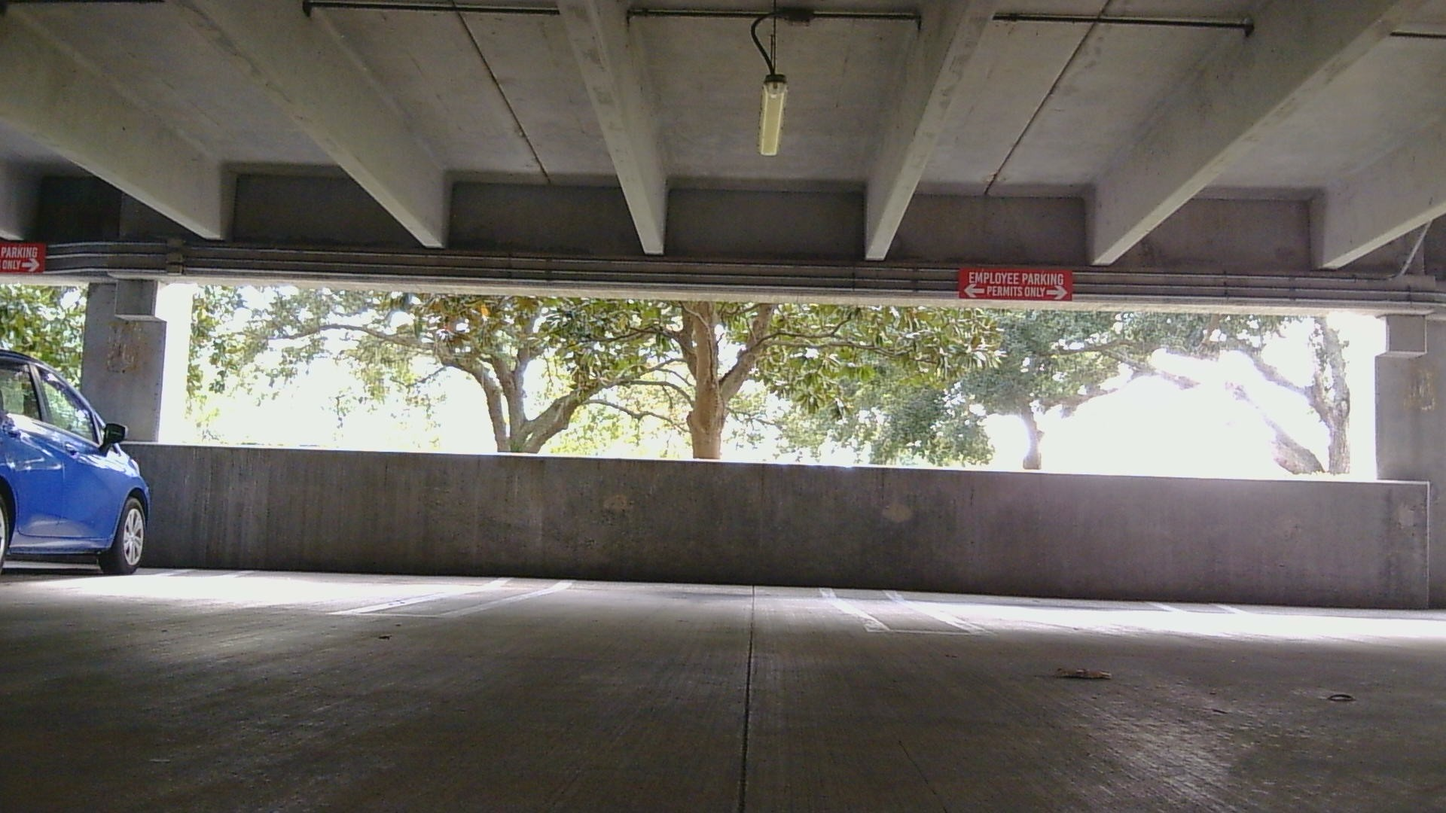empty_spot: (879, 507, 1446, 646), (391, 497, 938, 623), (0, 495, 508, 615)
occupied_spot: (0, 349, 149, 608)
